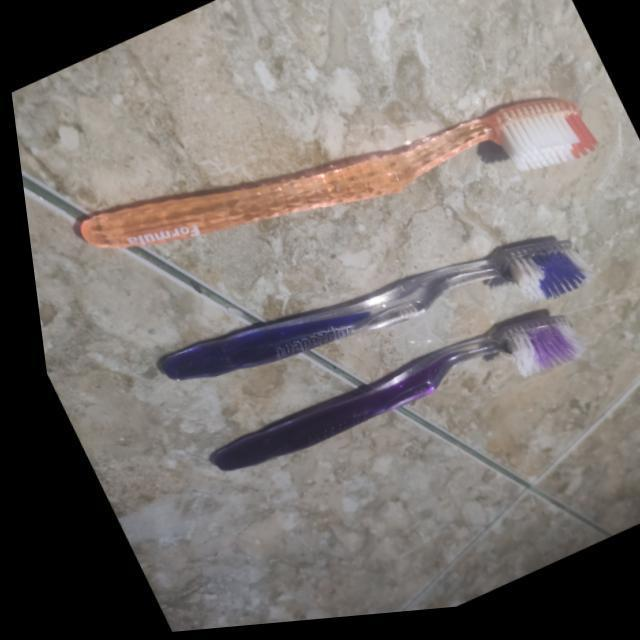toothbrush: (19, 0, 630, 392), (99, 179, 611, 485), (158, 286, 612, 546)
